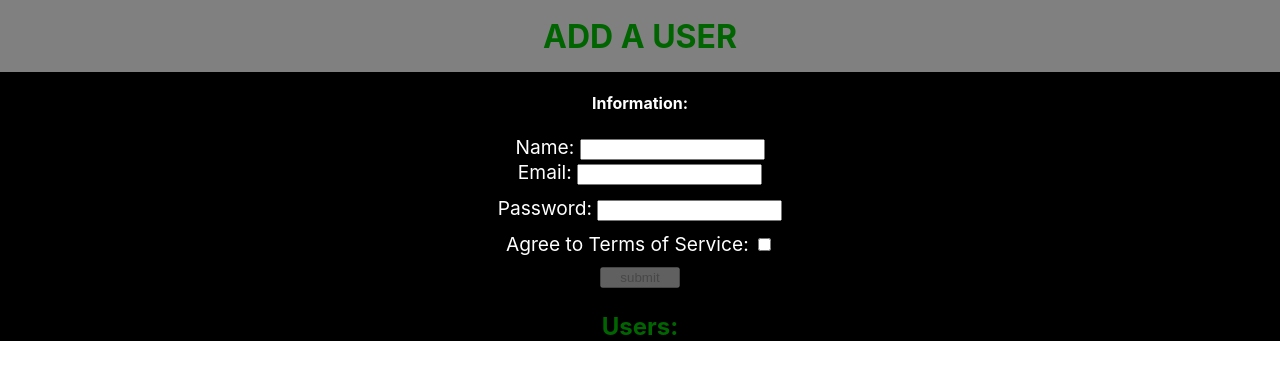
Scenario: Test Inputs and Buttons › can check for validation
Type "abcd" into the field named "email" at {"x": 670, "y": 175}, box left=577, top=164, right=762, bottom=185
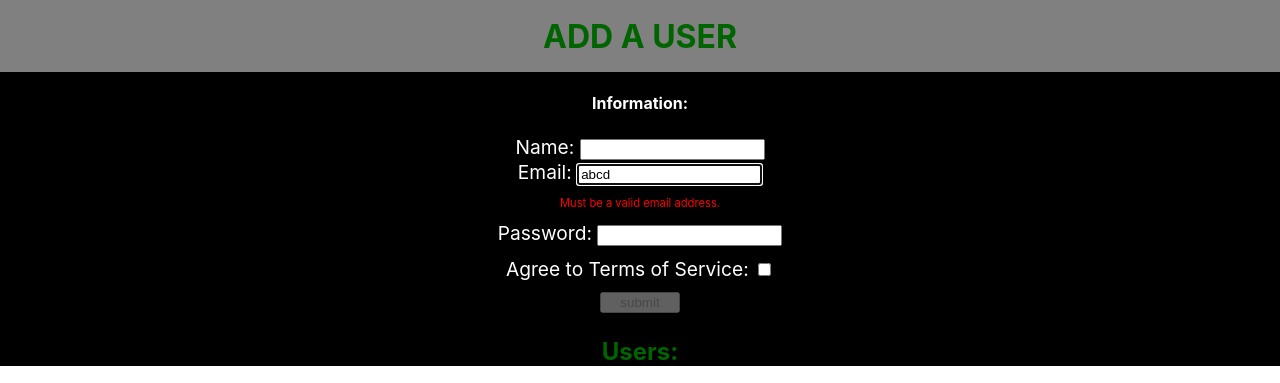
Expected: the text with id "email-error" shows "Must be a valid email address", left=560, top=196, right=720, bottom=210
